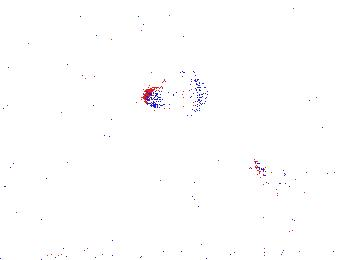flame jellyfish: (273, 173, 346, 231), (143, 67, 208, 118), (247, 160, 309, 208)
